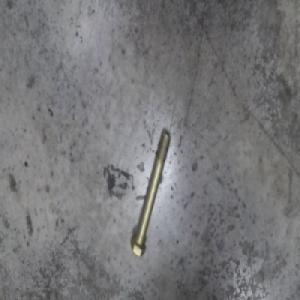Bolt: (129, 118, 171, 257)
